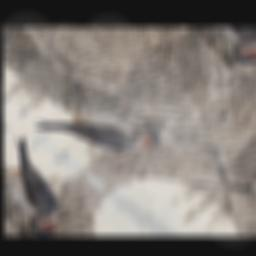Swallow: (26, 75, 172, 190)
